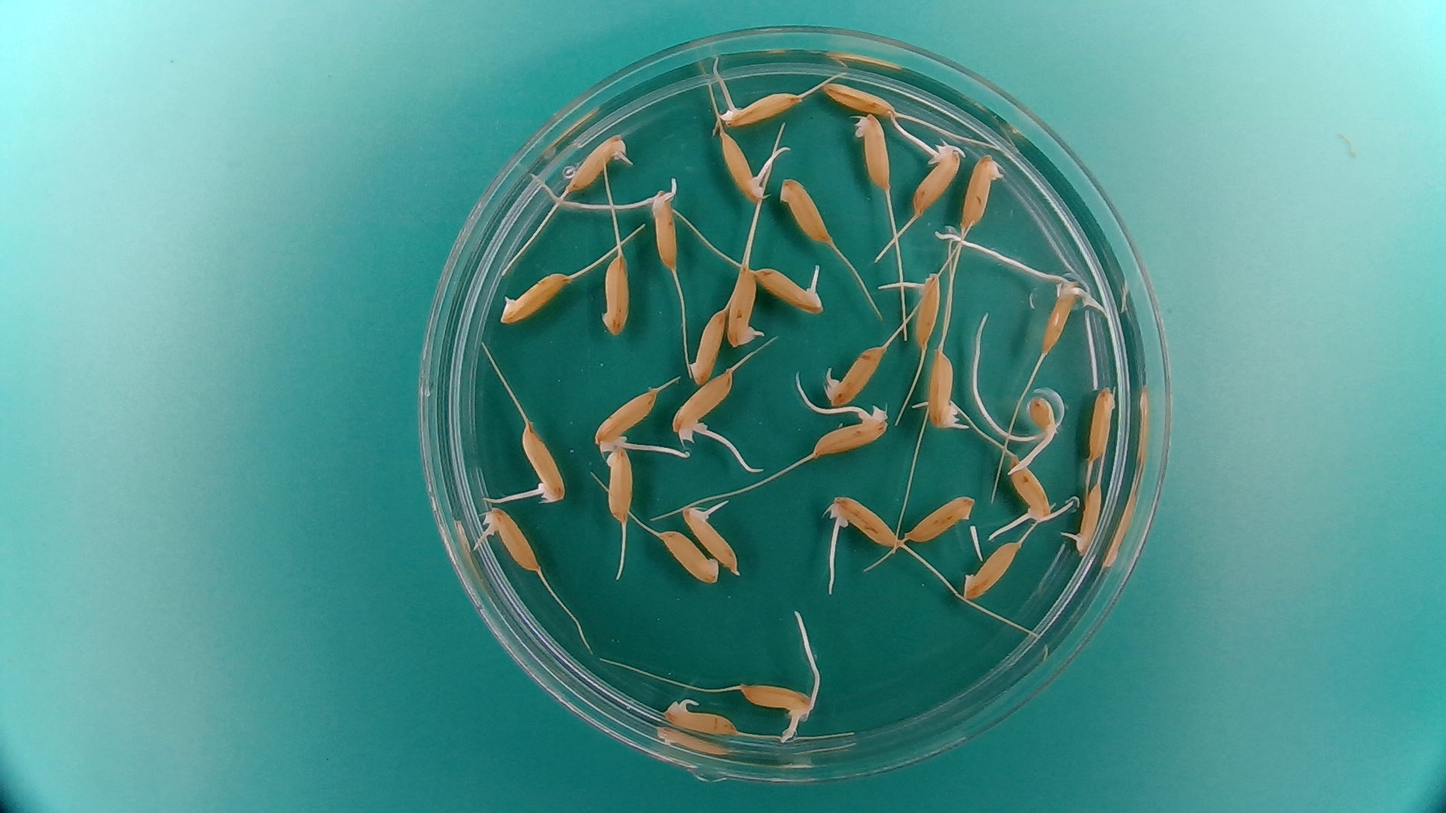no: (901, 479, 973, 547), (651, 526, 725, 591), (498, 266, 573, 327), (776, 173, 835, 246), (959, 151, 1007, 232), (962, 538, 1022, 601), (682, 304, 727, 385), (850, 111, 893, 191), (1082, 382, 1120, 465), (820, 79, 897, 119), (599, 446, 638, 522), (599, 251, 632, 336)
yes: (592, 383, 667, 453), (681, 495, 743, 574), (671, 367, 735, 443), (477, 504, 544, 574), (909, 136, 966, 217), (822, 340, 890, 407), (718, 126, 772, 204), (808, 410, 892, 460), (832, 493, 904, 551), (520, 421, 568, 505), (1038, 274, 1084, 361), (560, 137, 630, 193), (754, 263, 827, 315), (718, 83, 799, 128), (1006, 452, 1054, 525), (725, 267, 765, 349), (923, 348, 963, 428), (660, 696, 738, 737), (651, 190, 688, 275), (737, 679, 815, 715), (910, 269, 944, 348), (1071, 480, 1103, 555), (1023, 392, 1066, 443)
